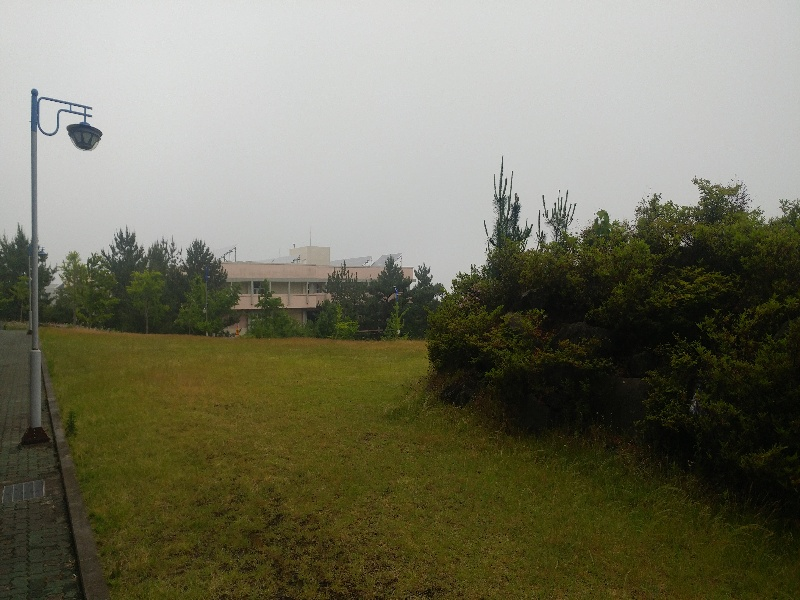College Of Education: (200, 252, 436, 333)
